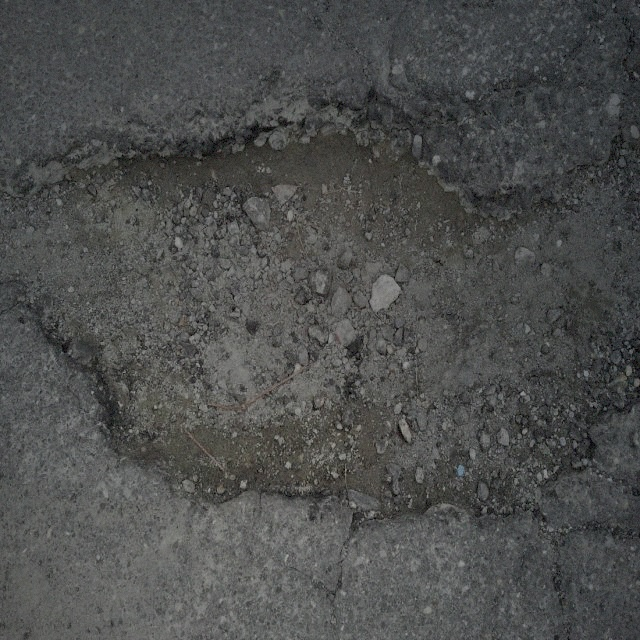pothole: (37, 97, 516, 551)
